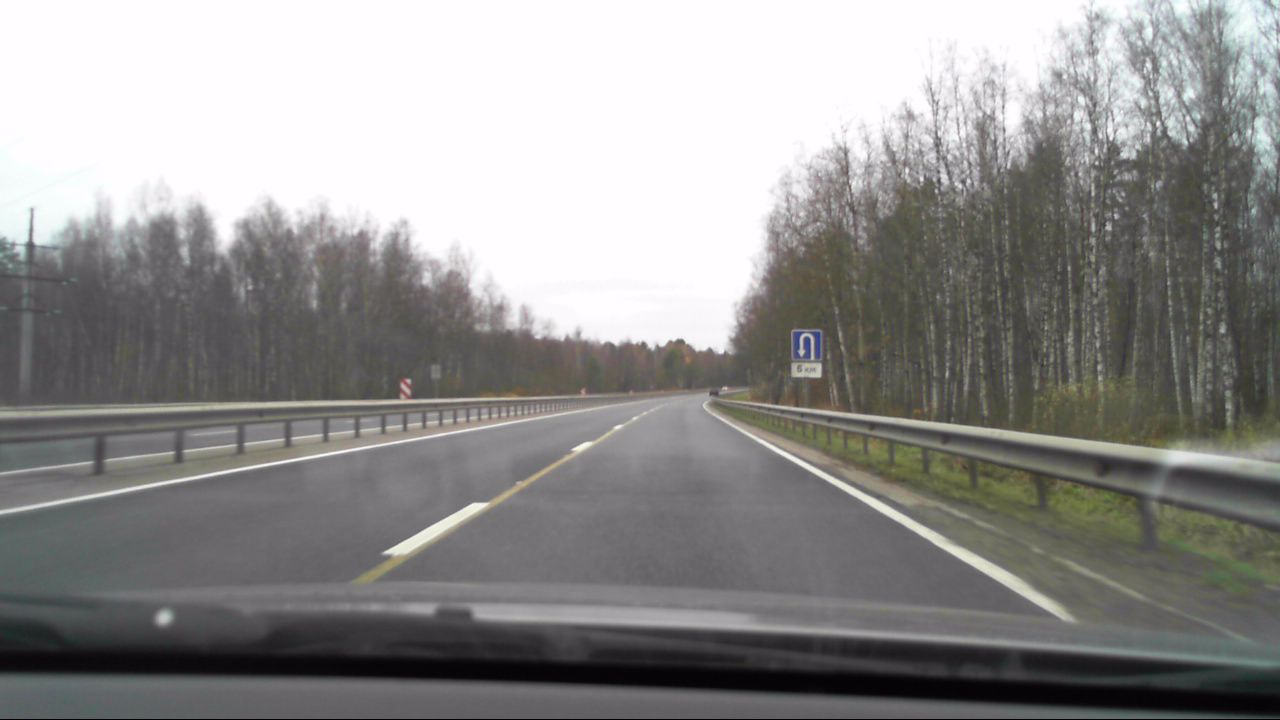U-turn: (791, 329, 822, 361)
